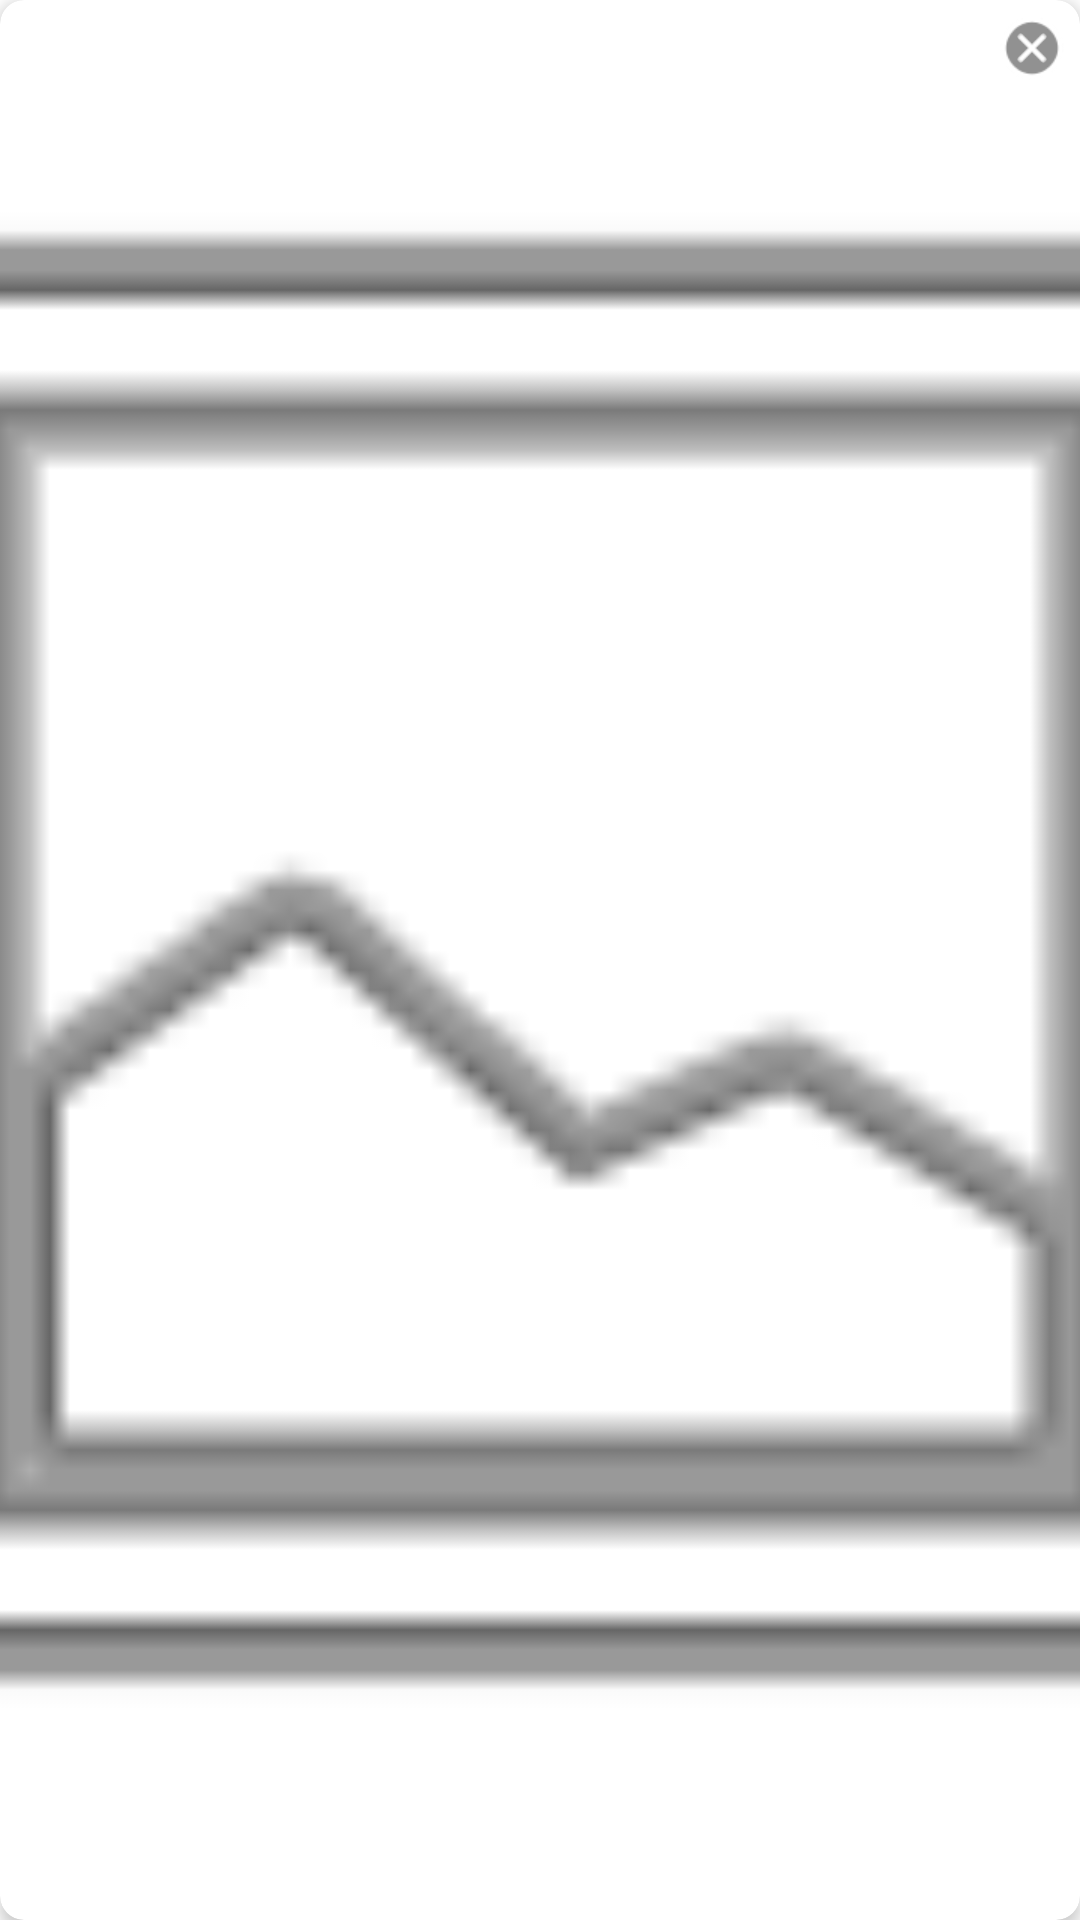

Locate icon controls on the screen. Image size 1080×1920, boxes as (x1, y1, x2, y2).
Hapus Foto: (1006, 22, 1058, 75)
